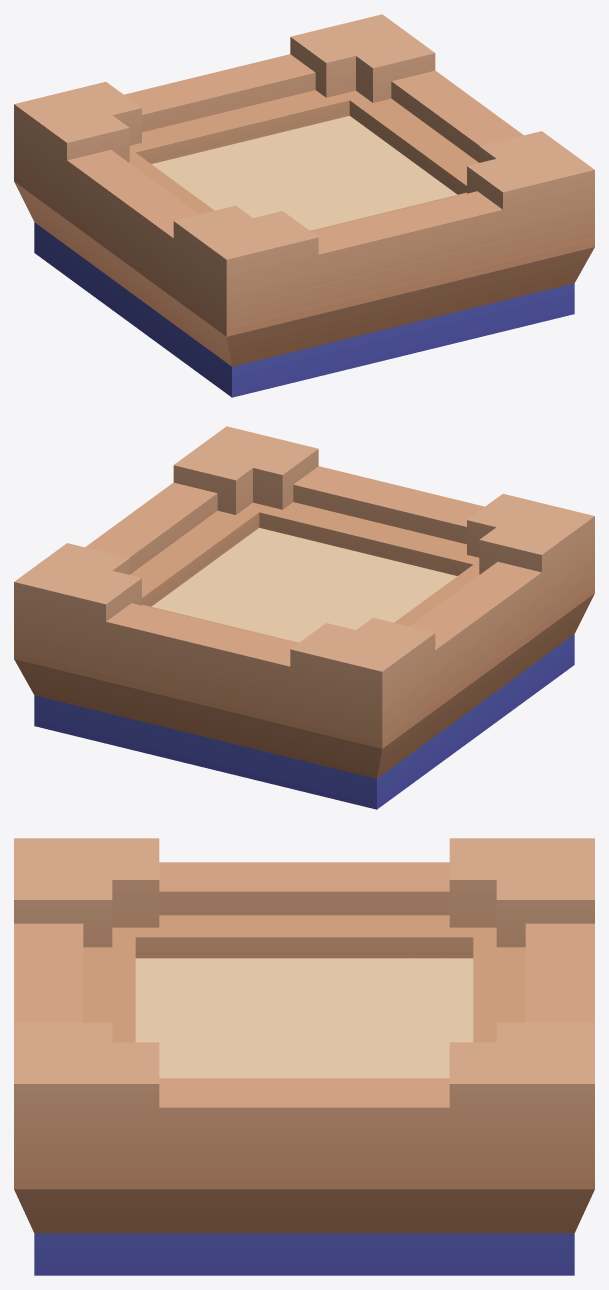
Rendered from tower-square-top-color.glb.
The picture shows the model from 3 angles, top to bottom: view 1: azimuth 30°, elevation 25°; view 2: azimuth 150°, elevation 25°; view 3: azimuth 270°, elevation 25°; orthographic projection. The views are drawn at different scales.
Parts seen in each view (by area): view 1: tower-square-top-color; view 2: tower-square-top-color; view 3: tower-square-top-color.
Boxes of the visible parts, bbox=[...] form: tower-square-top-color: bbox=[14, 14, 594, 397]; tower-square-top-color: bbox=[14, 426, 594, 809]; tower-square-top-color: bbox=[14, 838, 594, 1275].
Bounding box in the file's own units: 1 × 0.38 × 1.
Materials: 1 (1 with a texture image).
